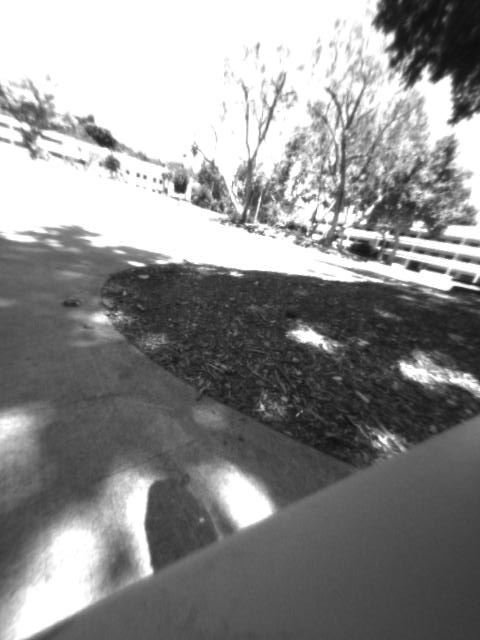dogtoy: (277, 300, 308, 325)
